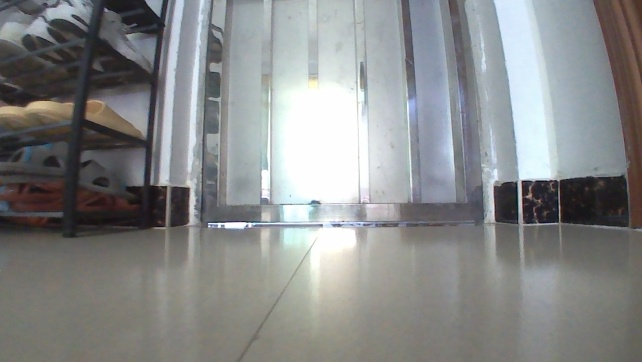door_anno: (192, 0, 491, 229)
shoe: (46, 0, 155, 75)
slipper: (0, 153, 138, 199), (22, 92, 145, 140)
